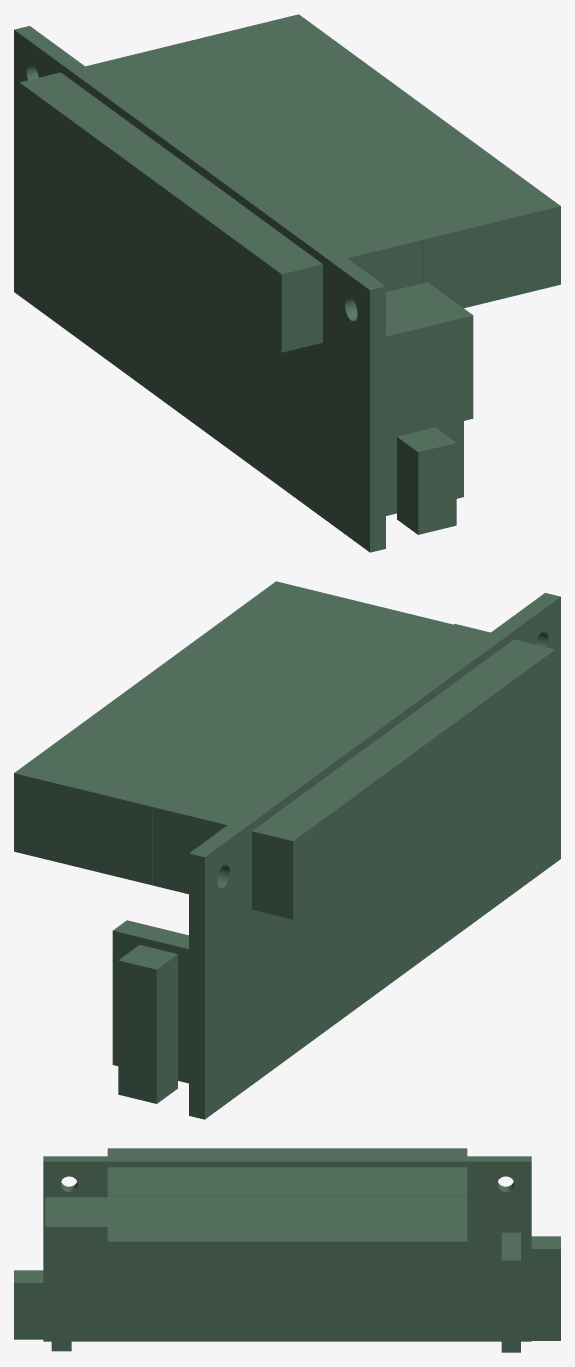
Rendered from PCA9685_Right_v3_4b.glb.
The picture shows the model from 3 angles, top to bottom: view 1: azimuth 30°, elevation 25°; view 2: azimuth 150°, elevation 25°; view 3: azimuth 270°, elevation 25°; orthographic projection. The views are drawn at different scales.
Visible parts, largest first — view 1: PCA9685_Right_v3_4b; view 2: PCA9685_Right_v3_4b; view 3: PCA9685_Right_v3_4b.
Boxes of the visible parts, <box> form: PCA9685_Right_v3_4b: <box>14,14,560,552</box>; PCA9685_Right_v3_4b: <box>14,581,560,1119</box>; PCA9685_Right_v3_4b: <box>14,1148,560,1352</box>.
Size of the model in its own units: 28.3 by 25.4 by 70.
